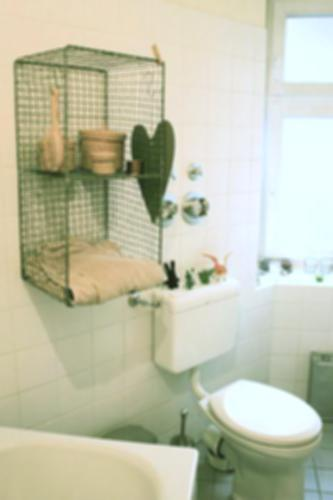Sanitario: (153, 286, 328, 496)
